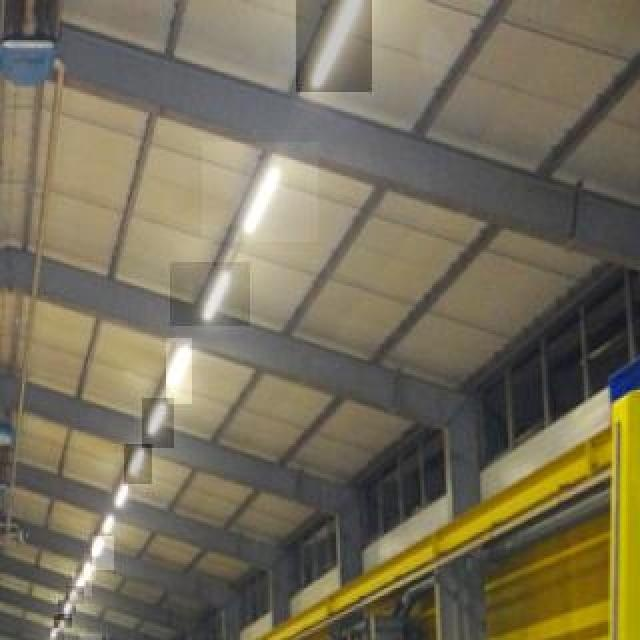fluorescent tube: (218, 158, 298, 240), (303, 0, 354, 98), (182, 265, 234, 333), (160, 322, 198, 407), (145, 396, 171, 449), (120, 445, 153, 482)
